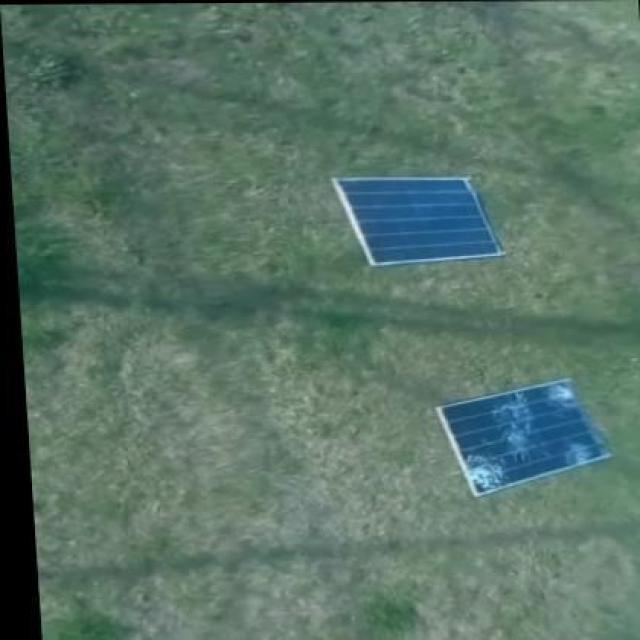cracked: (434, 379, 608, 497)
